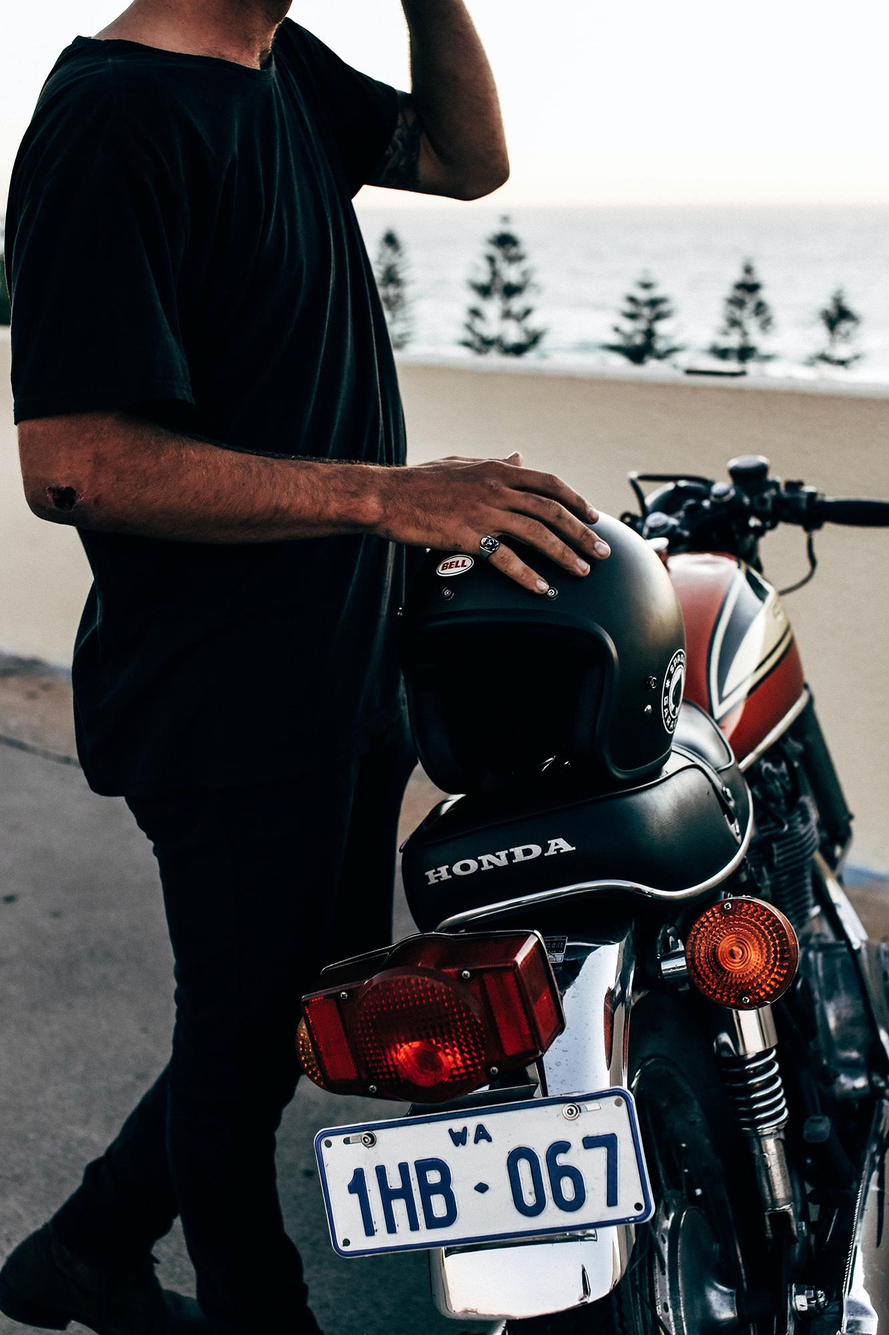helmet: (392, 493, 689, 797)
